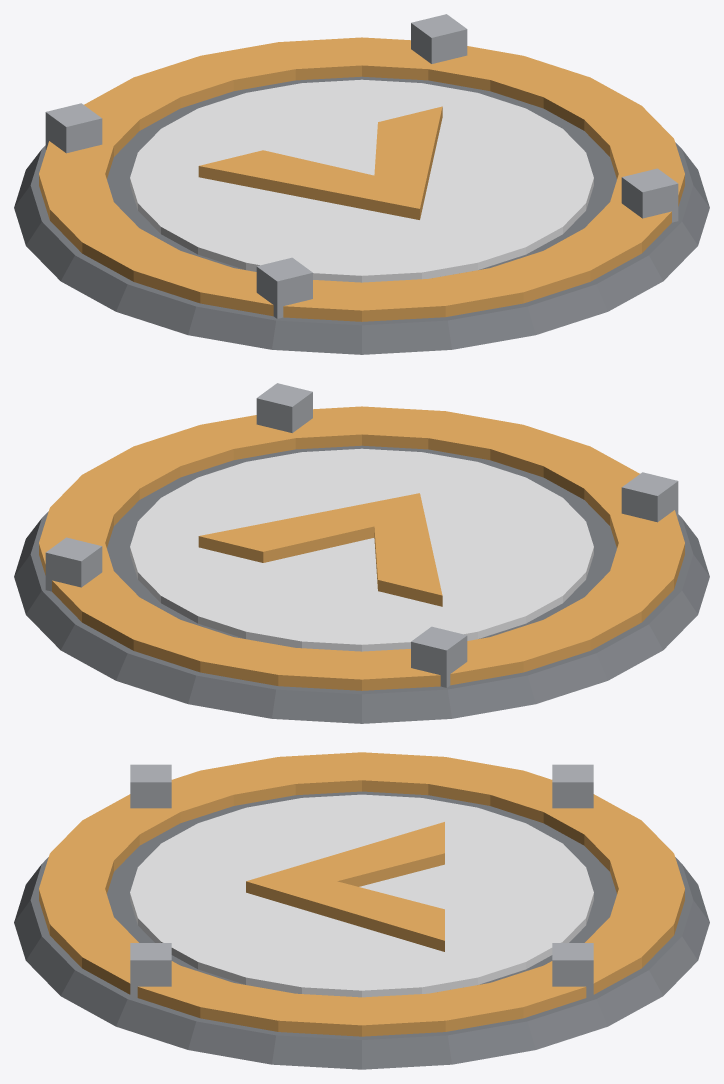
Rendered from modular-greybox-architecture-kit-spawn-marker-pad-a3c1361d__22911.glb.
3 views of the same model, one above another, from view 1: azimuth 30°, elevation 25°; view 2: azimuth 150°, elevation 25°; view 3: azimuth 270°, elevation 25° (orthographic).
Parts seen in each view (by area): view 1: spawn-marker-pad; view 2: spawn-marker-pad; view 3: spawn-marker-pad.
Boxes of the visible parts, x1,y1,x2,y2 form: spawn-marker-pad: (14, 14, 709, 354); spawn-marker-pad: (14, 383, 709, 723); spawn-marker-pad: (14, 752, 709, 1069).
Bounding box in the file's own units: 1.68 × 0.16 × 1.68.
